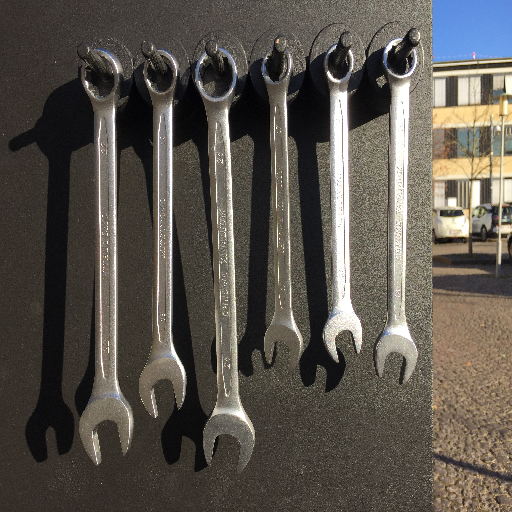bottom: (195, 410, 261, 475), (79, 397, 137, 465), (137, 360, 192, 419), (369, 328, 421, 387), (316, 312, 366, 367), (261, 320, 310, 373)
top: (78, 48, 128, 104), (190, 49, 238, 101), (141, 47, 180, 100), (319, 40, 358, 86), (257, 41, 295, 86), (380, 37, 419, 79)
